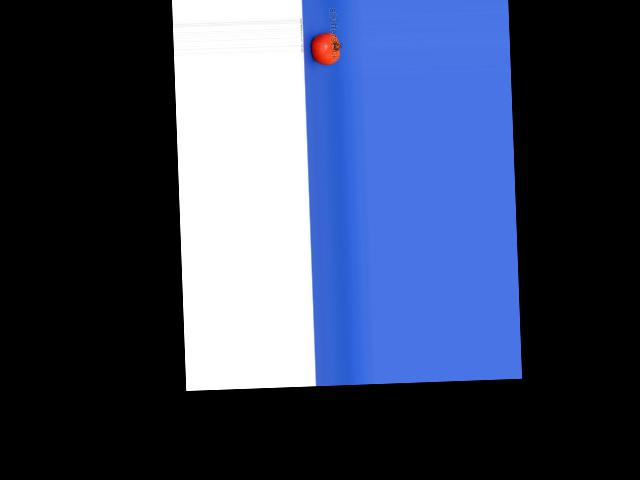tomato: (310, 33, 340, 66)
